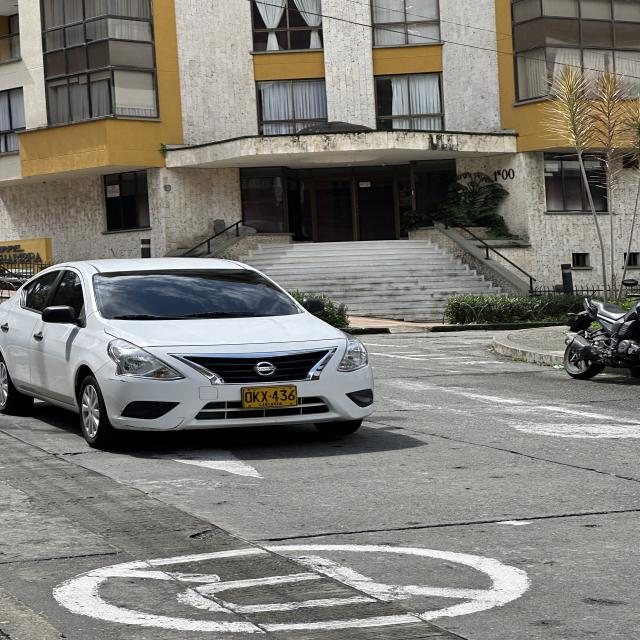number plate: (241, 385, 297, 408)
